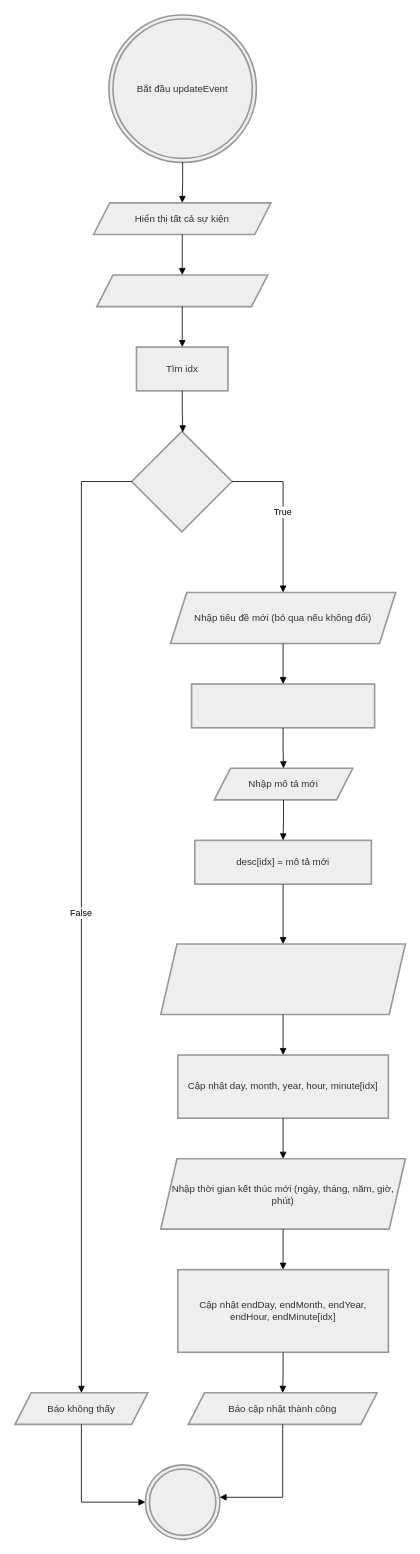
Image size: 420x1554. Some labels were removed from this diagram. Each missing label, with the centre of its shape:
Kết thúc: pixel 182 1502
Nhập ID cần cập nhật: pixel 182 290
Nhập thời gian bắt đầu mới (ngày, tháng, năm, giờ, phút): pixel 283 979
title[idx] = tiêu đề mới: pixel 282 705
Tìm thấy?: pixel 181 481
